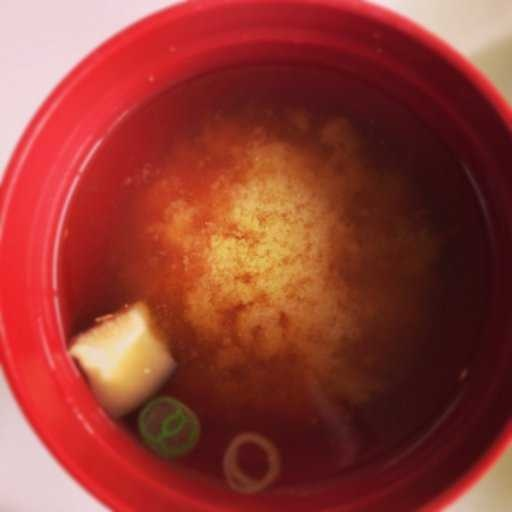soup: (48, 84, 454, 452)
